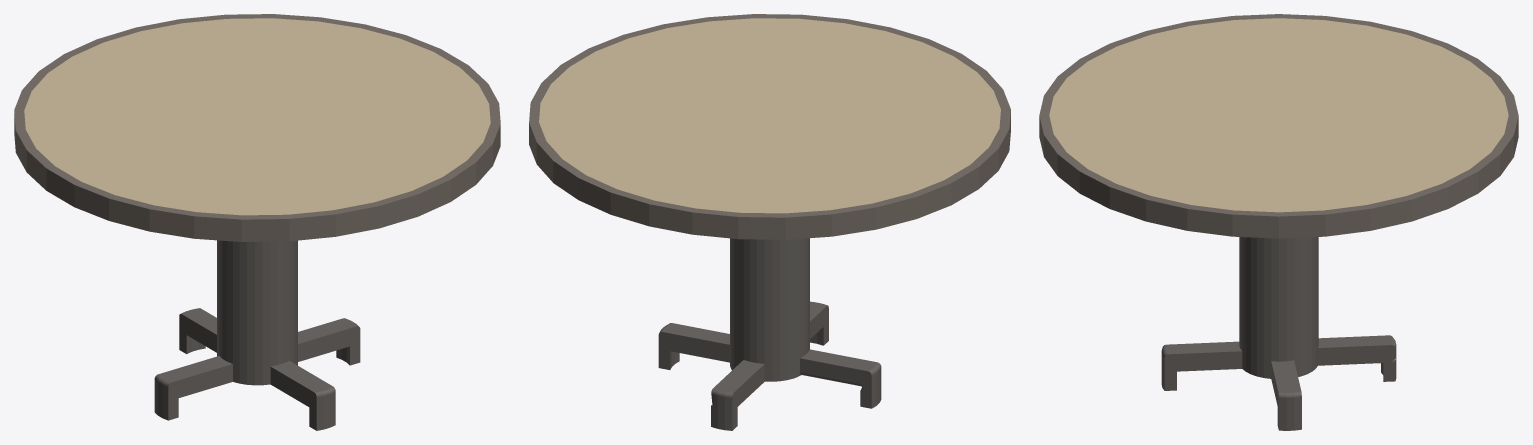
Rendered from BreakroomTable.glb.
3 views of the same model, side by side, from view 1: azimuth 30°, elevation 25°; view 2: azimuth 150°, elevation 25°; view 3: azimuth 270°, elevation 25° (orthographic).
Visible parts, largest first — view 1: Circle; view 2: Circle; view 3: Circle.
Part boxes in pixels (<box>): Circle: <box>14,14,500,430</box>; Circle: <box>529,14,1010,430</box>; Circle: <box>1039,14,1518,430</box>.
Bounding box in the file's own units: 1 × 0.6126 × 1.
